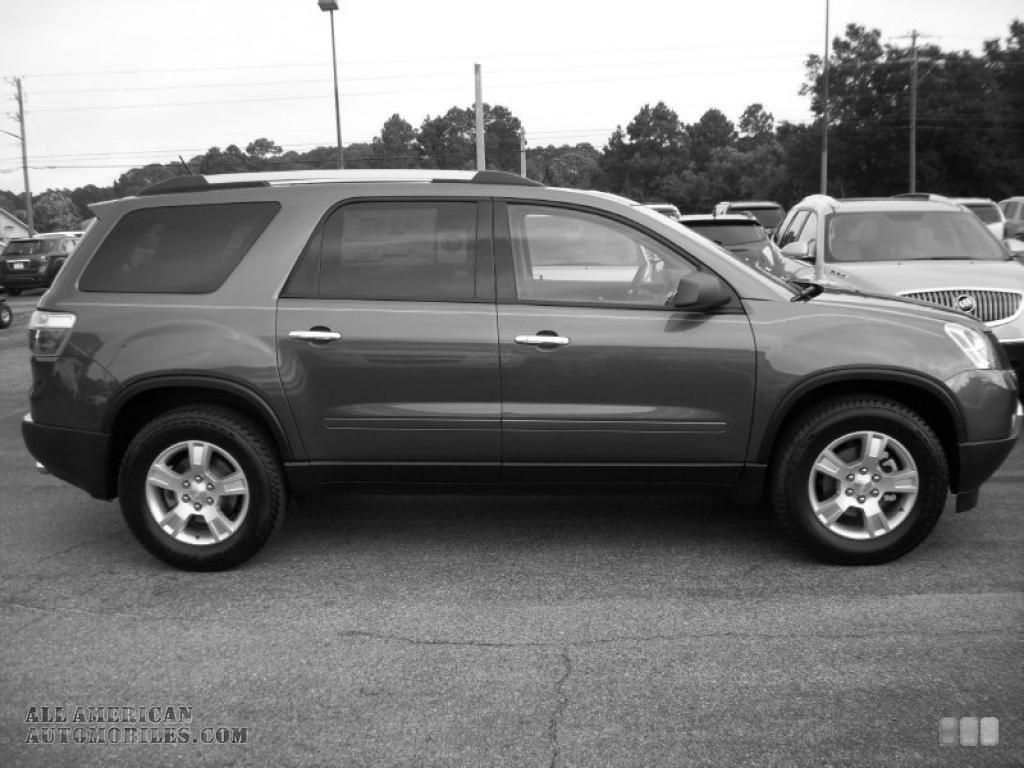car: (18, 165, 1024, 578)
